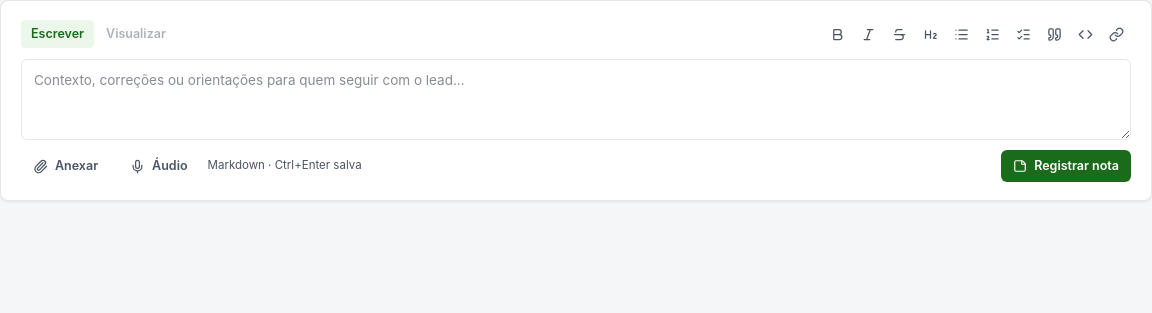
Scenario: NoteComposer — menções › navega com as setas e confirma com Enter
Type "@" into the text box named "Corpo da nota" at (576, 100), box left=21, top=59, right=1131, bottom=140
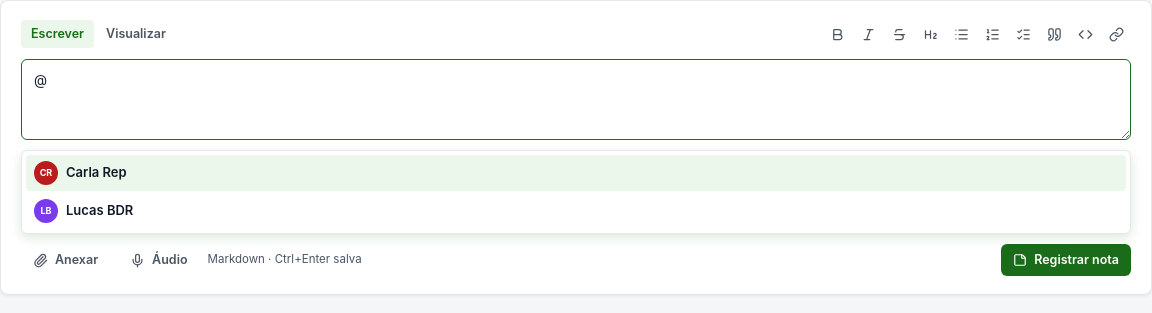
Press Arrowdown Enter
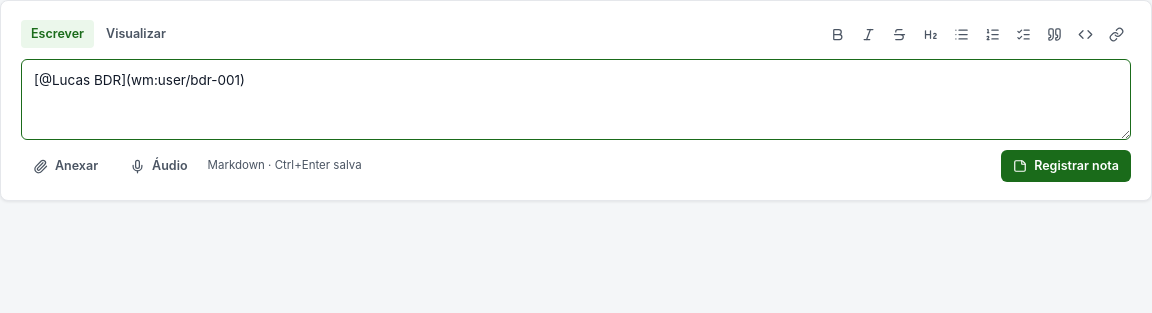
Now the text box named "Corpo da nota" holds "[@Lucas BDR](wm:user/bdr-001) ", box left=21, top=59, right=1131, bottom=140
